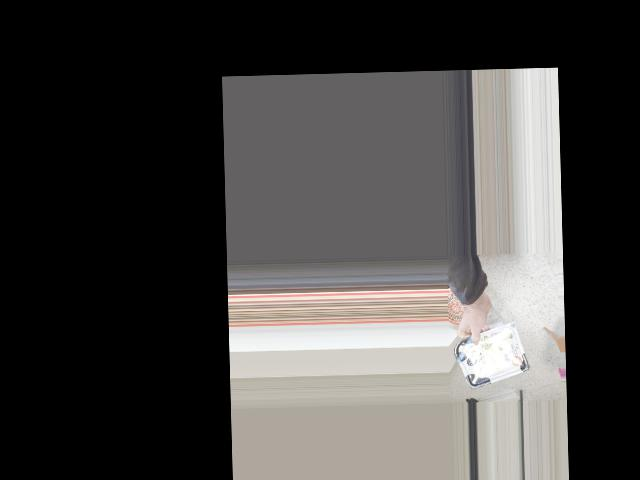cheese: (457, 334, 521, 381)
